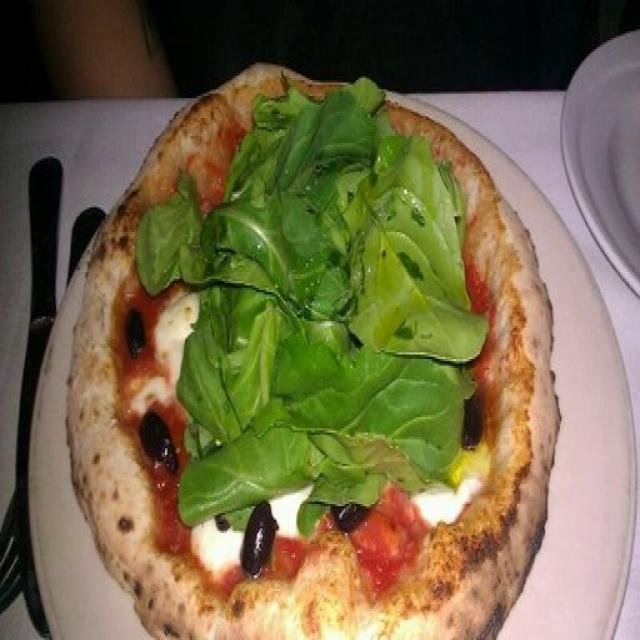Basil: (180, 79, 480, 529), (137, 182, 206, 284)
Olives: (143, 413, 178, 469), (245, 503, 273, 573), (125, 304, 146, 356), (466, 402, 482, 455), (335, 509, 364, 528)
Pizza: (65, 67, 560, 640)
